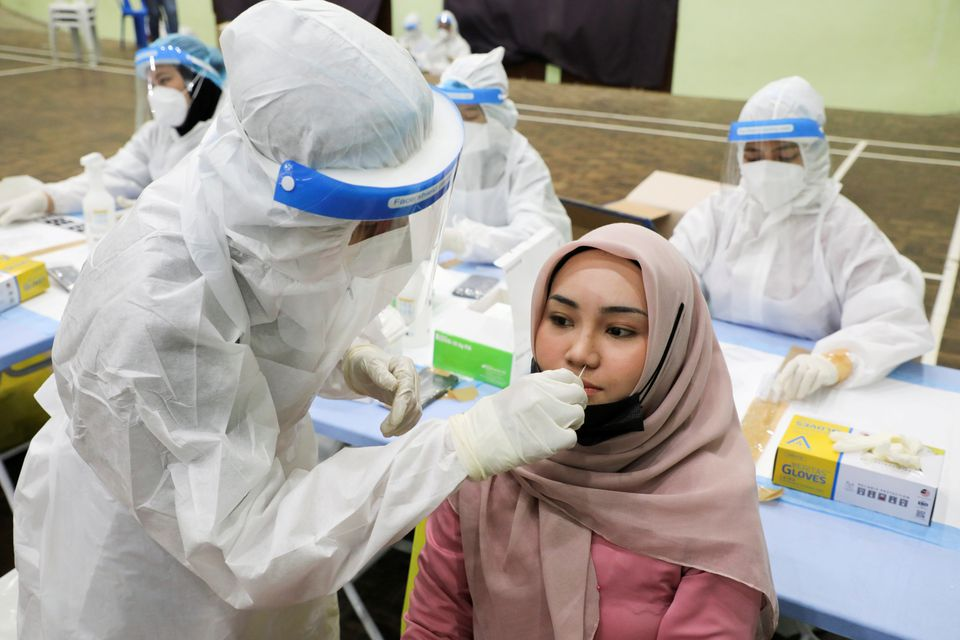Coverall: (19, 4, 502, 640), (664, 71, 939, 425)
Face_Shield: (249, 101, 474, 337), (721, 111, 826, 227), (133, 42, 194, 140)
Gloves: (449, 364, 589, 485), (344, 335, 434, 447), (771, 348, 849, 412), (1, 187, 53, 227)
mask_weared_incorrect: (525, 244, 659, 454)
with_mask: (336, 206, 415, 288), (739, 137, 804, 213), (151, 61, 188, 131)
